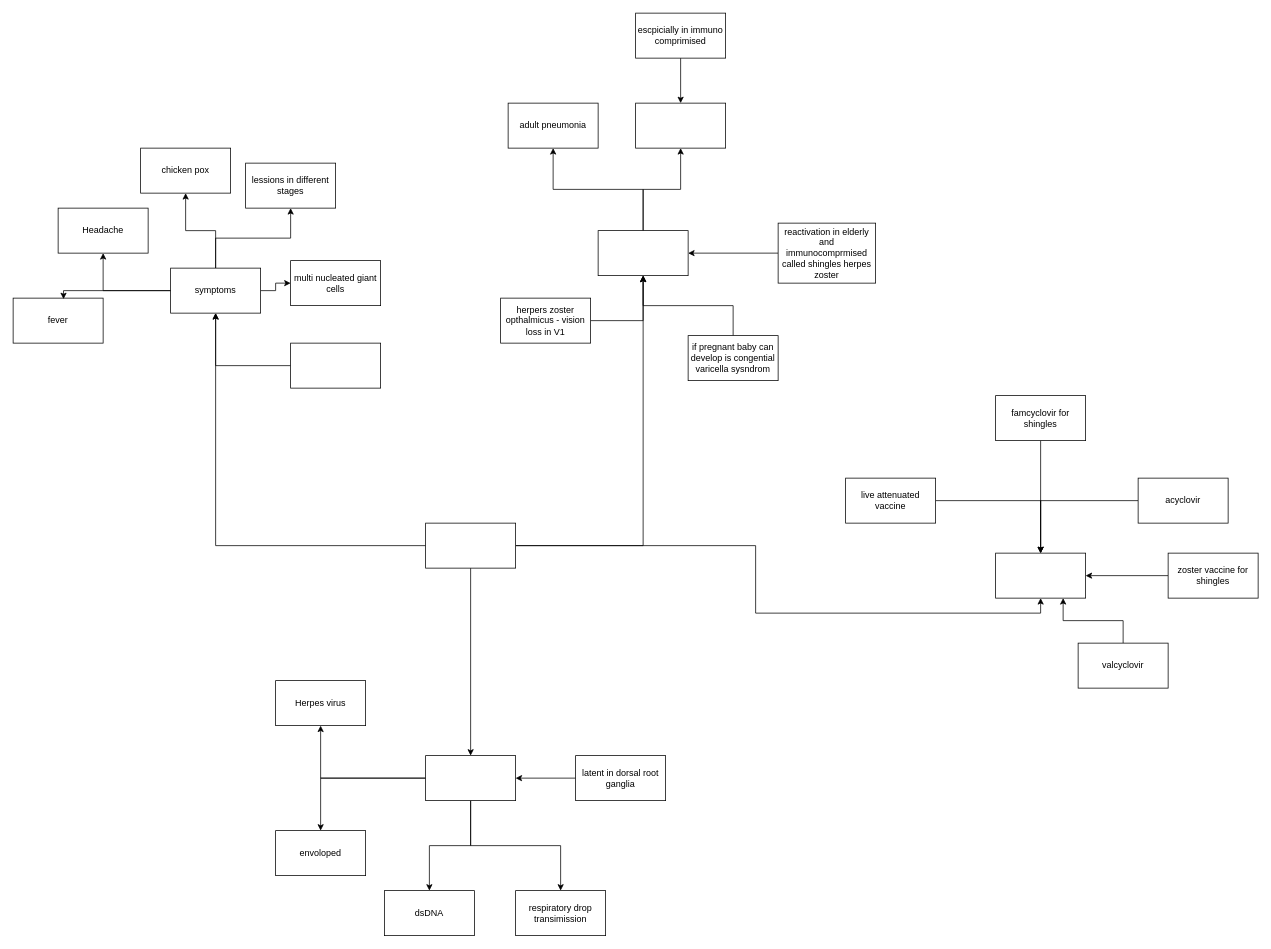
The diagram is 1271 pixels wide and 949 high, and some of its shapes have lost their labels. The shapes that lost their labels are listed below. From the top down, each one's box as (x1, y1, x2, y2) in pixels, then its label:
(635, 102, 726, 148): enchpilitis
(597, 230, 688, 276): complications
(290, 342, 381, 388): postherpetic neralgia
(425, 522, 516, 568): VZV
(995, 552, 1086, 598): treatment
(425, 755, 516, 801): features
